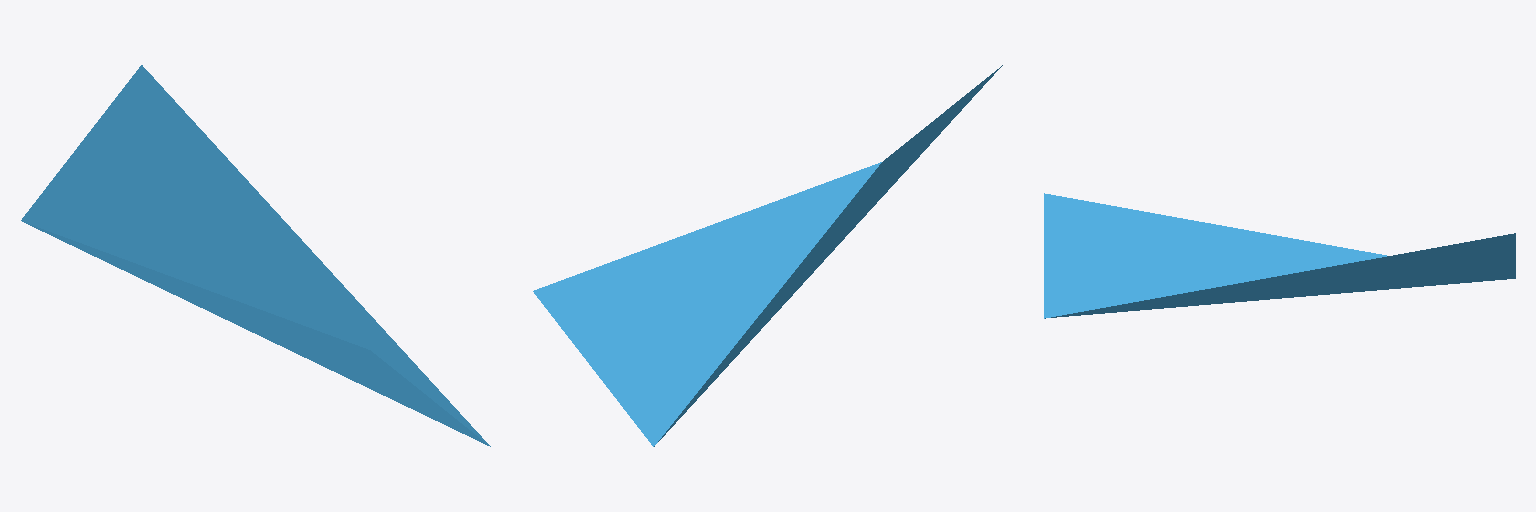
URDF robot description (toy_as_shipped):
<?xml version="1.0"?>
<!--
  A stand-in for "somebody else's robot": two arm joints and a jaw, one
  mesh, placeholder limits. Written for the overlay tests, so they can
  run without fetching anything. It has the properties of a vendor URDF
  that the overlay exists to deal with: no world link, a mesh path
  relative to this file, and effort/velocity limits nobody measured.
-->
<robot name="toy_as_shipped">
  <link name="base_link">
    <inertial>
      <mass value="0.2"/>
      <inertia ixx="1e-4" ixy="0" ixz="0" iyy="1e-4" iyz="0" izz="1e-4"/>
    </inertial>
  </link>
  <link name="link_a">
    <inertial>
      <mass value="0.1"/>
      <inertia ixx="1e-4" ixy="0" ixz="0" iyy="1e-4" iyz="0" izz="1e-4"/>
    </inertial>
    <visual>
      <origin xyz="0 0 0.5" rpy="0 0 1.5708"/>
      <geometry><mesh filename="assets/toy_link.stl"/></geometry>
    </visual>
    <collision>
      <origin xyz="0 0 0.5" rpy="0 0 1.5708"/>
      <geometry><mesh filename="assets/toy_link.stl"/></geometry>
    </collision>
  </link>
  <link name="link_b">
    <inertial>
      <mass value="0.1"/>
      <inertia ixx="1e-4" ixy="0" ixz="0" iyy="1e-4" iyz="0" izz="1e-4"/>
    </inertial>
    <collision>
      <geometry><mesh filename="assets/toy_link.stl"/></geometry>
    </collision>
  </link>
  <link name="jaw">
    <inertial>
      <mass value="0.01"/>
      <inertia ixx="1e-6" ixy="0" ixz="0" iyy="1e-6" iyz="0" izz="1e-6"/>
    </inertial>
  </link>
  <link name="tip"/>

  <joint name="j_a" type="revolute">
    <origin xyz="0 0 0.05" rpy="0 0 0"/>
    <parent link="base_link"/>
    <child link="link_a"/>
    <axis xyz="0 0 1"/>
    <limit effort="10" velocity="10" lower="-1.0" upper="1.0"/>
  </joint>
  <joint name="j_b" type="revolute">
    <origin xyz="0 0 0.1" rpy="0 0 0"/>
    <parent link="link_a"/>
    <child link="link_b"/>
    <axis xyz="0 1 0"/>
    <limit effort="10" velocity="10" lower="-0.5" upper="1.5"/>
  </joint>
  <joint name="j_jaw" type="revolute">
    <origin xyz="0 0 0.1" rpy="0 0 0"/>
    <parent link="link_b"/>
    <child link="jaw"/>
    <axis xyz="0 1 0"/>
    <limit effort="10" velocity="10" lower="-0.1" upper="0.8"/>
  </joint>
  <!-- ROS 1 leftovers, as upstream ships them. They contain <joint>
       elements that are references, not joints. -->
  <transmission name="j_a_trans">
    <type>transmission_interface/SimpleTransmission</type>
    <joint name="j_a">
      <hardwareInterface>hardware_interface/PositionJointInterface</hardwareInterface>
    </joint>
    <actuator name="motor1">
      <mechanicalReduction>1</mechanicalReduction>
    </actuator>
  </transmission>

  <joint name="tip_joint" type="fixed">
    <origin xyz="0 0 0.12" rpy="0 0 0"/>
    <parent link="link_b"/>
    <child link="tip"/>
  </joint>
</robot>

--- What the picture shows (computed from the rendered views, not written in the file) ---
3 views of the same robot in one strip: view 1: azimuth 30°, elevation 25°; view 2: azimuth 150°, elevation 25°; view 3: azimuth 270°, elevation 25° (orthographic).
Robot: toy_as_shipped — 5 links, 4 joints (3 revolute, 1 fixed); root link base_link; default pose: all joints at 0.
Visible links, largest first — view 1: link_a; view 2: link_a; view 3: link_a.
Boxes of the visible links, x1,y1,x2,y2 form: link_a: (21, 65, 490, 446); link_a: (533, 65, 1002, 446); link_a: (1044, 193, 1515, 318).
Size in the robot's own frame: 0.02 by 0.1 by 0.02 metres.
Meshes: 1 distinct files referenced, 1 mesh visuals loaded (1 ASCII STL).
